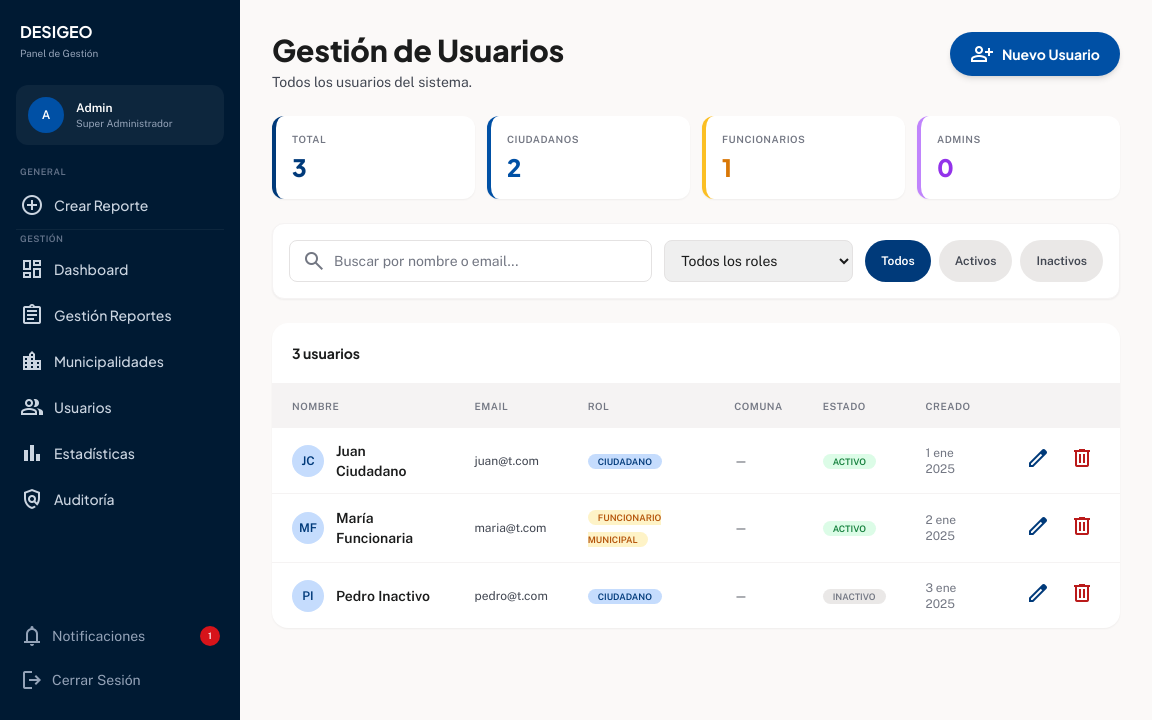
Scenario: CP-ADMIN — Gestión de Usuarios › CP-ADMIN-003: botón eliminar abre modal de confirmación
Expected: the text "Juan Ciudadano" is shown, [336,442,406,478]
Click the 1st button titled "Eliminar" at (1082, 460), box [1064,440,1100,481]
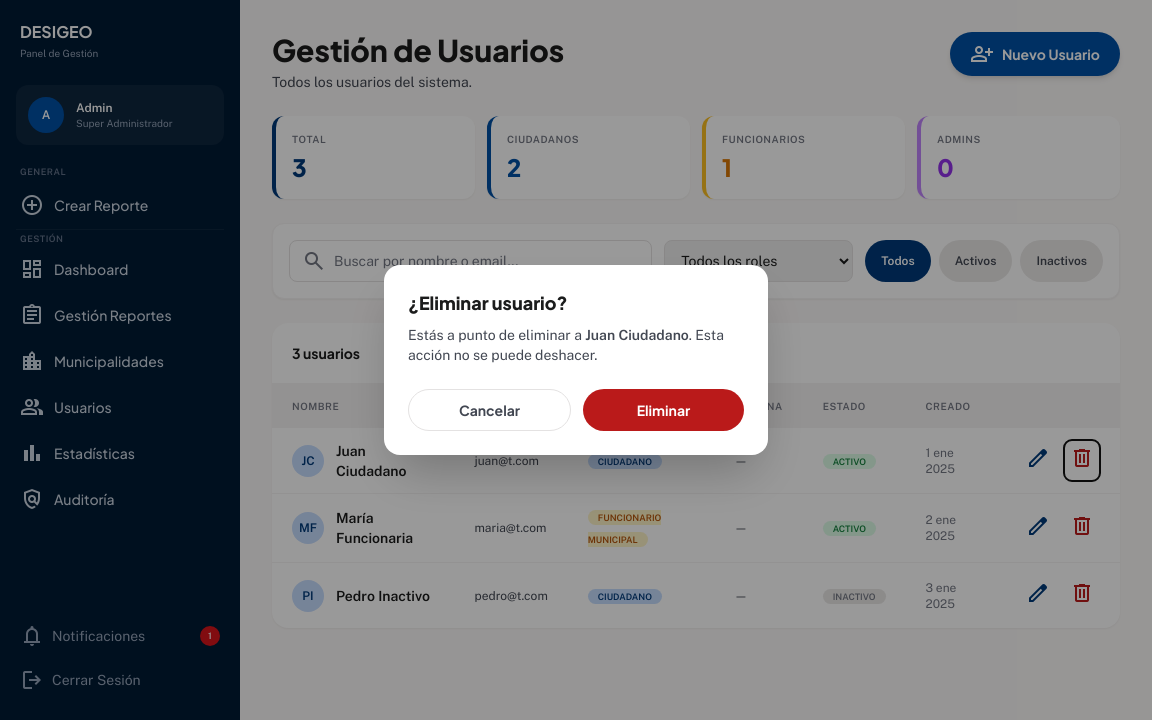
Now the heading "¿Eliminar usuario?" is shown, box [408,291,568,314]
Now the text "Estás a punto de eliminar" is shown, box [408,327,585,343]
